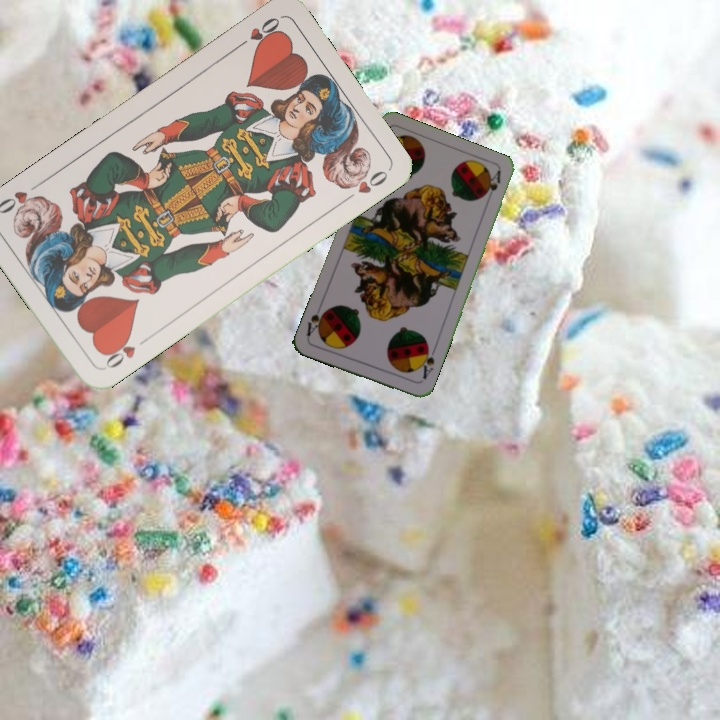HO: (99, 332, 152, 371), (231, 13, 283, 52)
SA: (415, 343, 438, 382)
